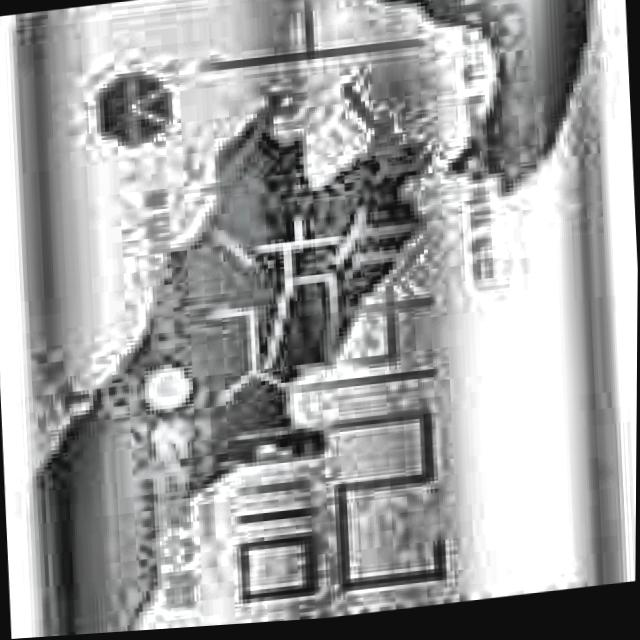metal: (9, 0, 626, 638)
